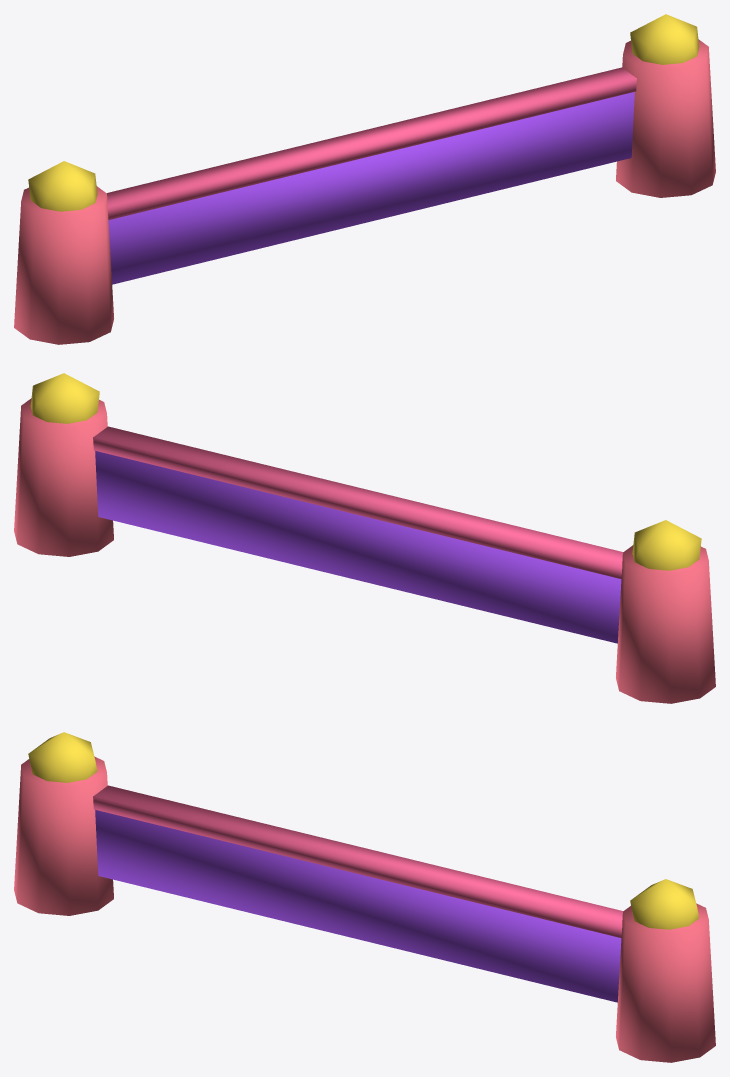
Rendered from w2_08_rubber_wall.glb.
3 views of the same model, one above another, from view 1: azimuth 30°, elevation 25°; view 2: azimuth 150°, elevation 25°; view 3: azimuth 330°, elevation 25° (orthographic).
Parts seen in each view (by area): view 1: W2_08_RubberWall; view 2: W2_08_RubberWall; view 3: W2_08_RubberWall.
Part boxes in pixels (x1=…): W2_08_RubberWall: x1=14, y1=14, x2=715, y2=344; W2_08_RubberWall: x1=14, y1=373, x2=715, y2=703; W2_08_RubberWall: x1=14, y1=732, x2=715, y2=1062.
Bounding box in the file's own units: 4.33 × 0.98 × 0.56.
1 material, 1 textured.
